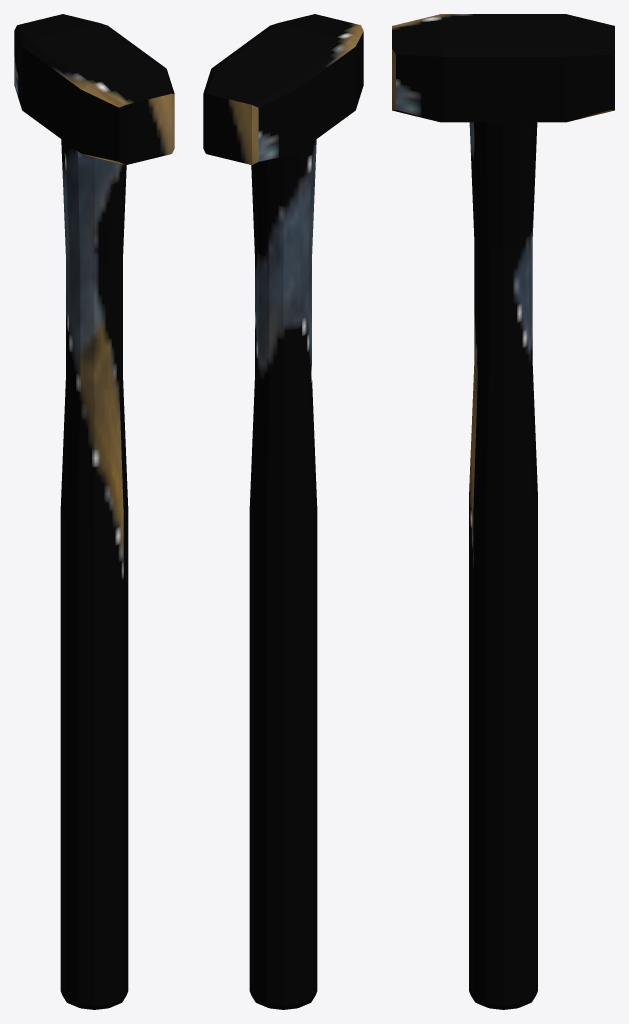
The model's file is Mazofinal2.fbx.
The picture shows the model from 3 angles, left to right: view 1: azimuth 30°, elevation 25°; view 2: azimuth 150°, elevation 25°; view 3: azimuth 270°, elevation 25°; orthographic projection. The views are drawn at different scales.
Visible parts, largest first — view 1: Cylinder01, Box01; view 2: Cylinder01, Box01; view 3: Cylinder01, Box01.
Boxes of the visible parts, x1,y1,x2,y2 form: Cylinder01: (60, 139, 128, 1009); Box01: (14, 14, 174, 164); Cylinder01: (249, 139, 317, 1009); Box01: (203, 14, 363, 164); Cylinder01: (469, 122, 537, 1009); Box01: (392, 14, 614, 122).
Size of the model in its own units: 8.03 by 84.66 by 17.68.
